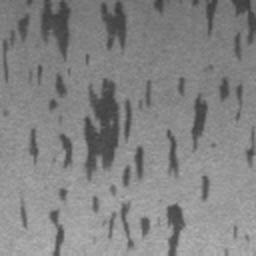Red iron sheet: (3, 0, 256, 256), (206, 0, 256, 60), (101, 0, 126, 51), (154, 0, 164, 13), (233, 224, 238, 240)
